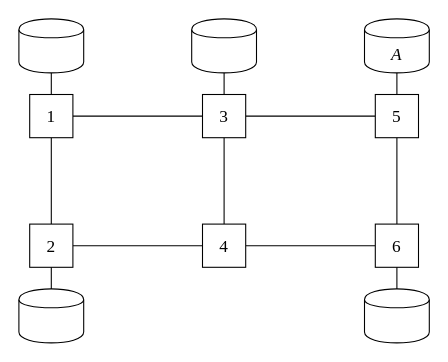
This 448x362 diagram has some shape labels left out. Each missing label, with the box of its shape:
ME: (191, 18, 256, 73)
MX: (18, 18, 84, 73)
R, d: (18, 288, 84, 343)
Z, MT: (363, 288, 429, 343)
